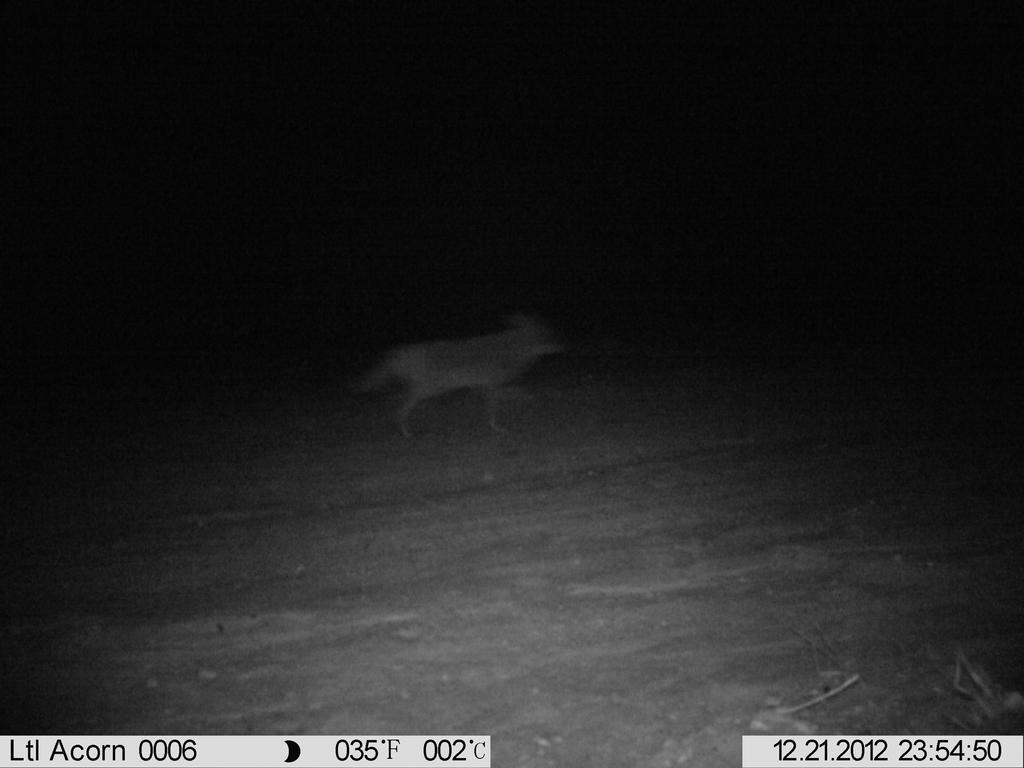coyote: (353, 300, 575, 449)
